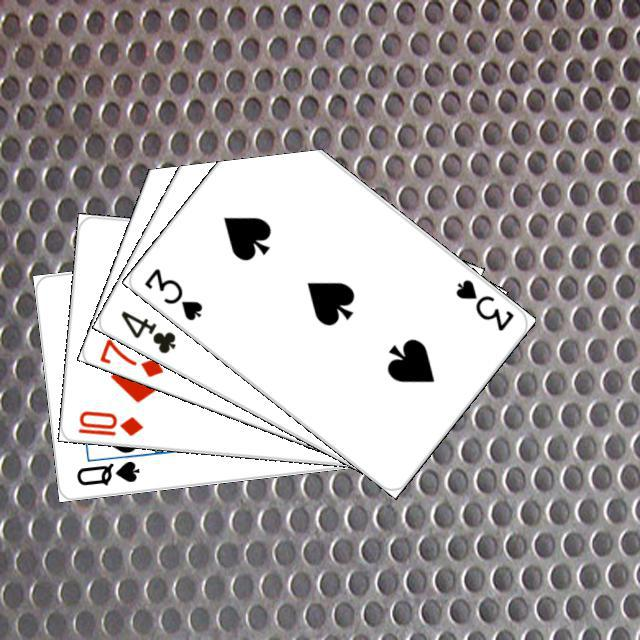10d: (73, 406, 145, 438)
3s: (139, 263, 205, 323), (450, 274, 516, 333)
4c: (115, 305, 178, 356)
7d: (95, 334, 166, 380)
Qs: (72, 456, 141, 488)
